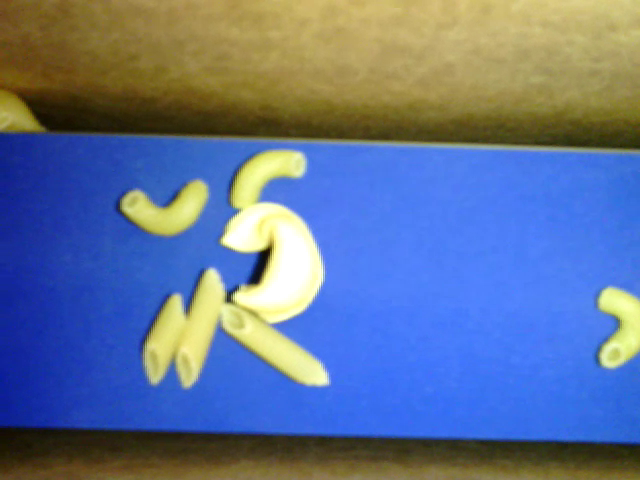elbow: (118, 179, 207, 238), (229, 147, 305, 208), (594, 281, 639, 364), (1, 104, 14, 132)
penne: (217, 302, 329, 388), (179, 268, 226, 385), (142, 291, 184, 385)
shell: (1, 89, 52, 133)
tortellini: (216, 203, 327, 325)
